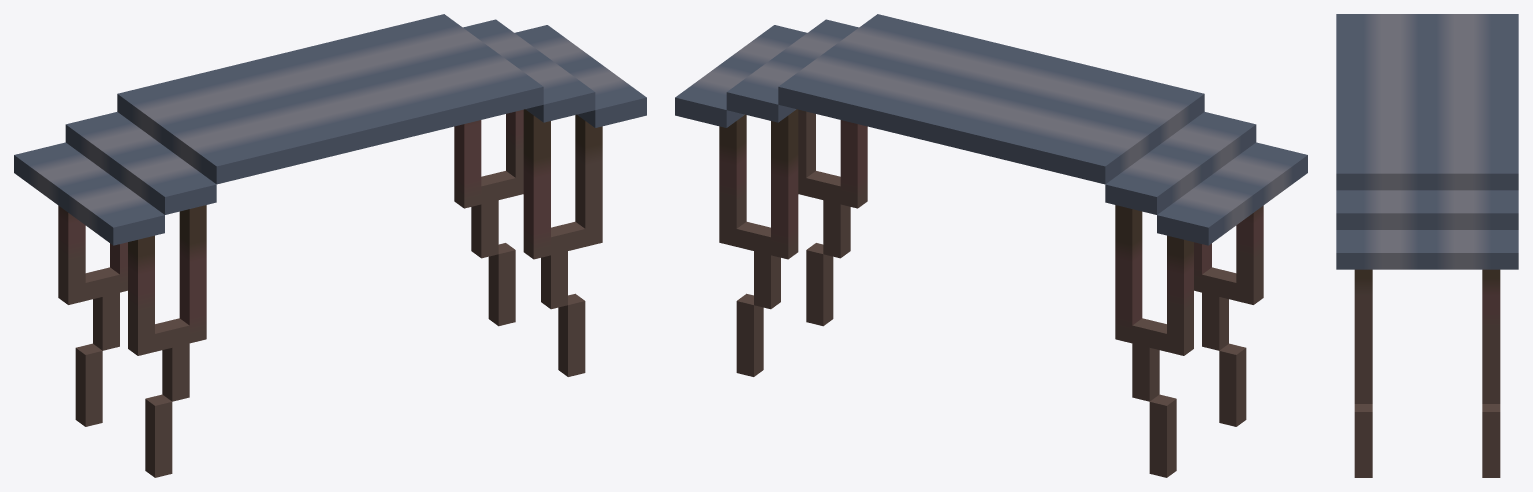
Rendered from Market_Stands-1.fbx.
3 views of the same model, side by side, from view 1: azimuth 30°, elevation 25°; view 2: azimuth 150°, elevation 25°; view 3: azimuth 270°, elevation 25° (orthographic). The views are drawn at different scales.
Visible parts, largest first — view 1: Market_Stands_1; view 2: Market_Stands_1; view 3: Market_Stands_1.
Boxes of the visible parts, <box> form: Market_Stands_1: <box>14,14,646,477</box>; Market_Stands_1: <box>675,14,1307,477</box>; Market_Stands_1: <box>1336,14,1518,477</box>.
Size of the model in its own units: 310 by 170 by 100.
Materials: 1 (1 with a texture image).
